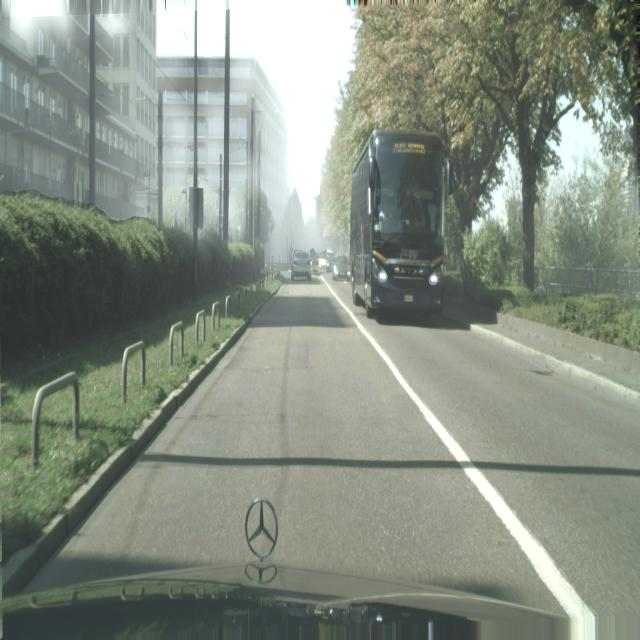motorcycle: (349, 129, 446, 321)
truck: (291, 249, 312, 282), (331, 255, 350, 279)
